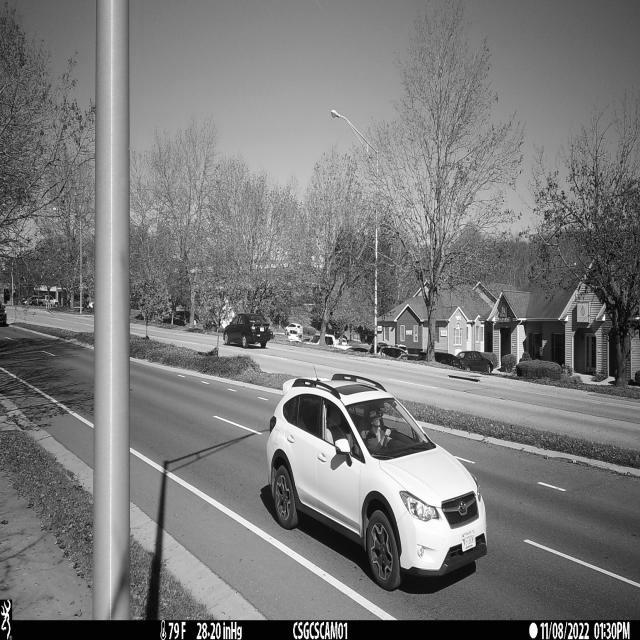SUV: (266, 372, 487, 592)
